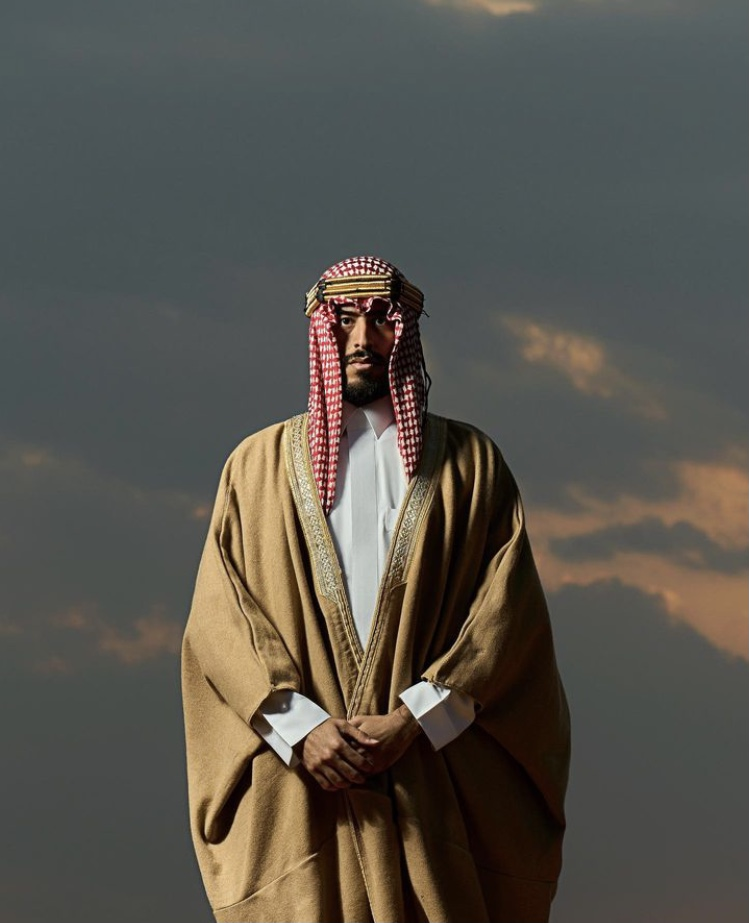Saudi_Founding_Day: (177, 253, 575, 923)
